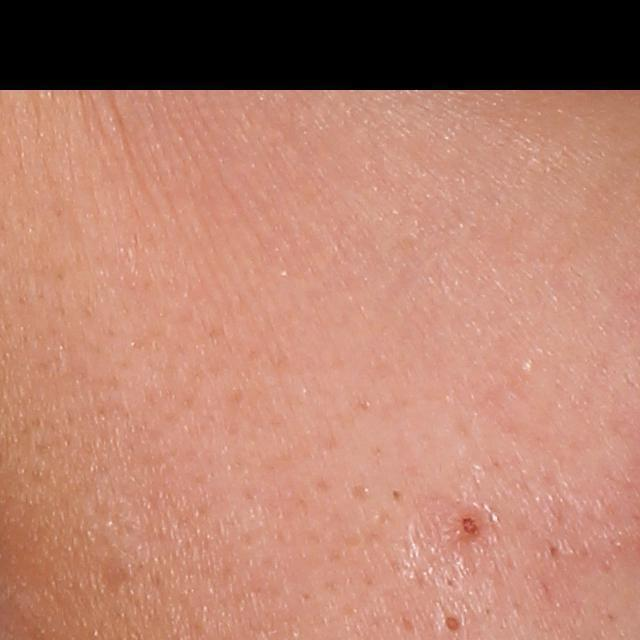comedo: (437, 609, 462, 638)
papule: (443, 502, 491, 546)
